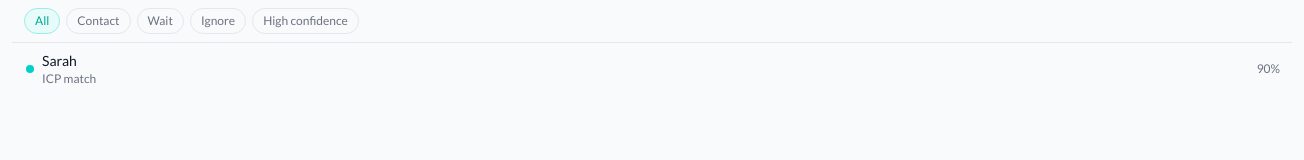
Test: QueuePane › shows a no-match message when filters exclude every item
The image size is (1304, 160).
Click the button "Wait". click: (160, 21)
box: [136, 8, 184, 34]
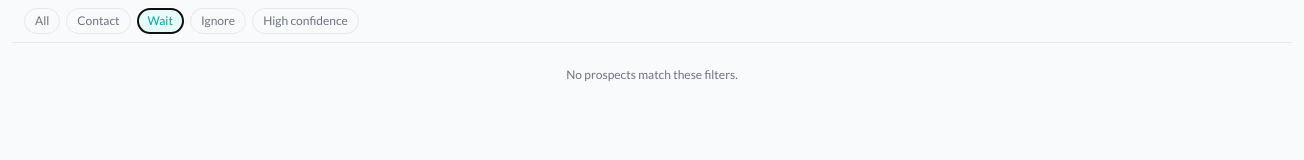
Check: the text "No prospects match these filters." is shown, box [566, 67, 738, 82]
